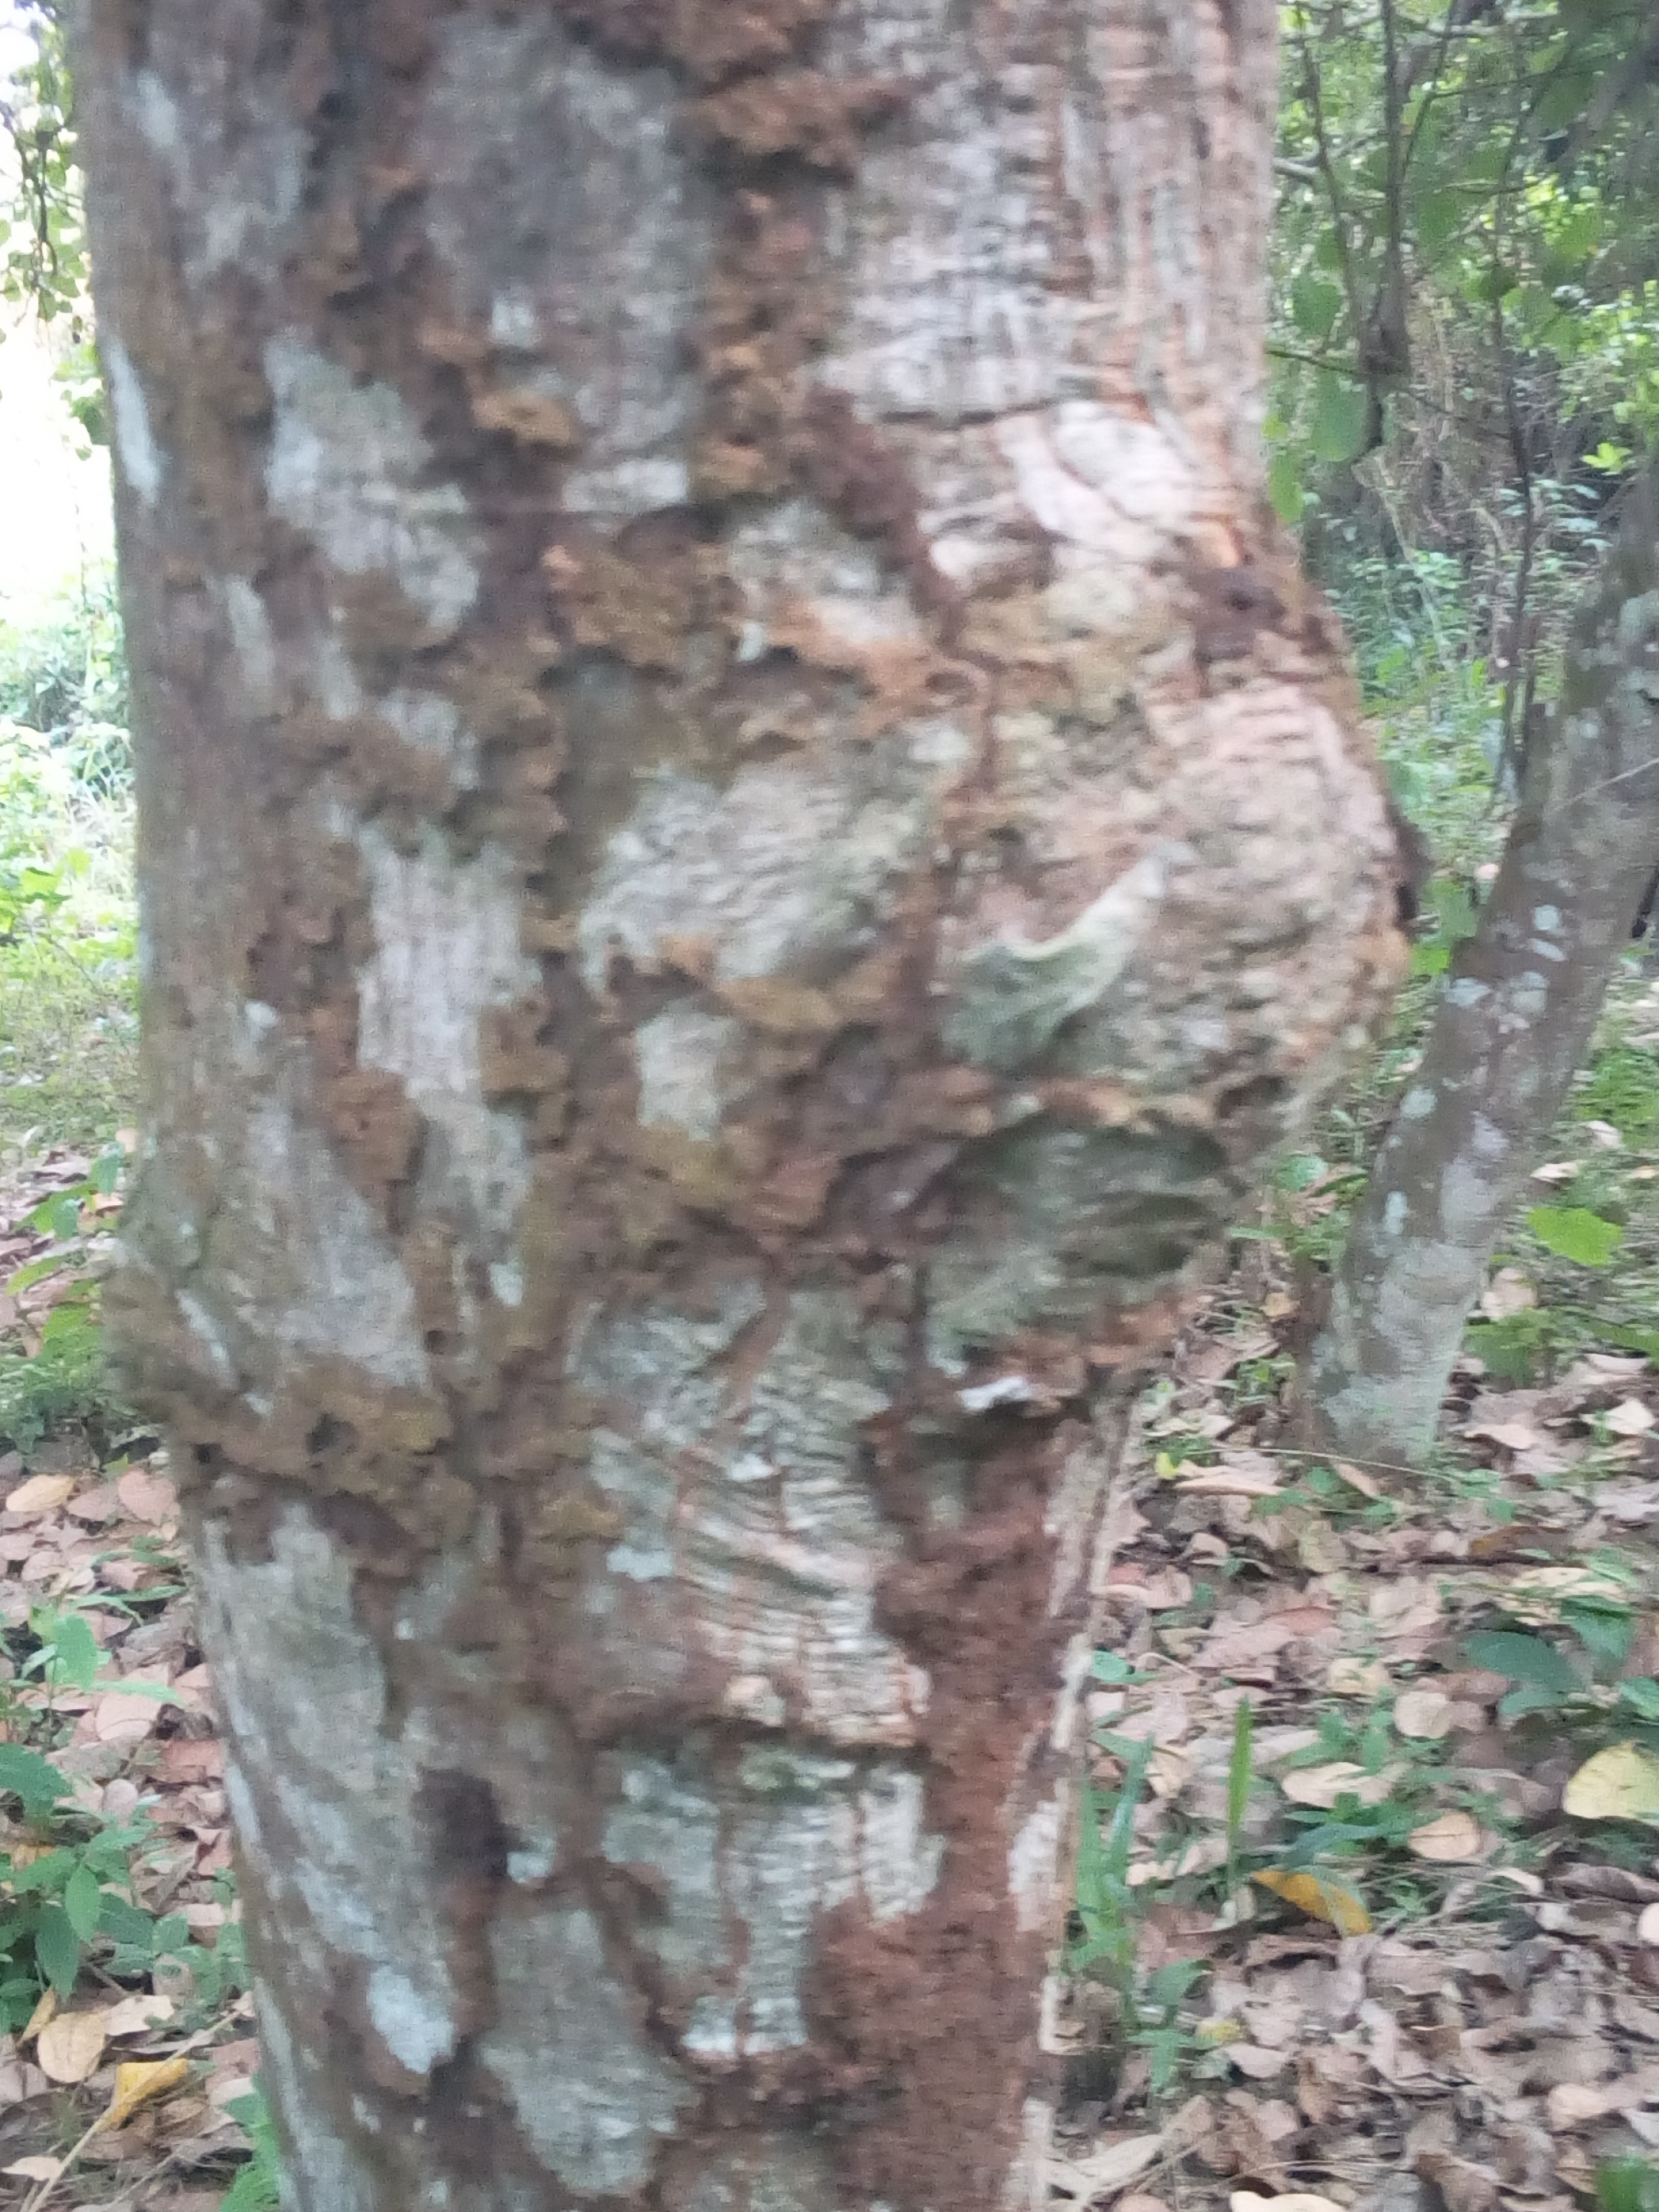Termites: (179, 12, 1121, 1296), (823, 1385, 1049, 2207)
